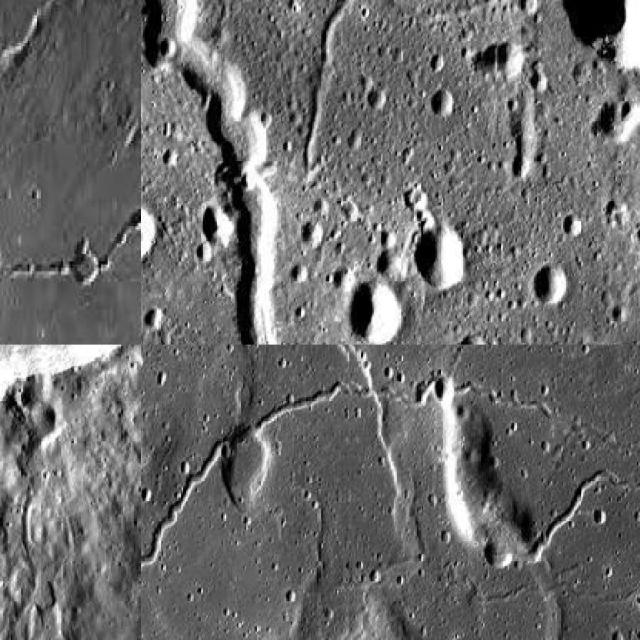rille: (140, 371, 554, 577), (140, 0, 283, 343), (302, 0, 570, 182), (0, 21, 138, 340), (524, 468, 638, 564), (451, 572, 638, 606), (10, 385, 38, 563)
